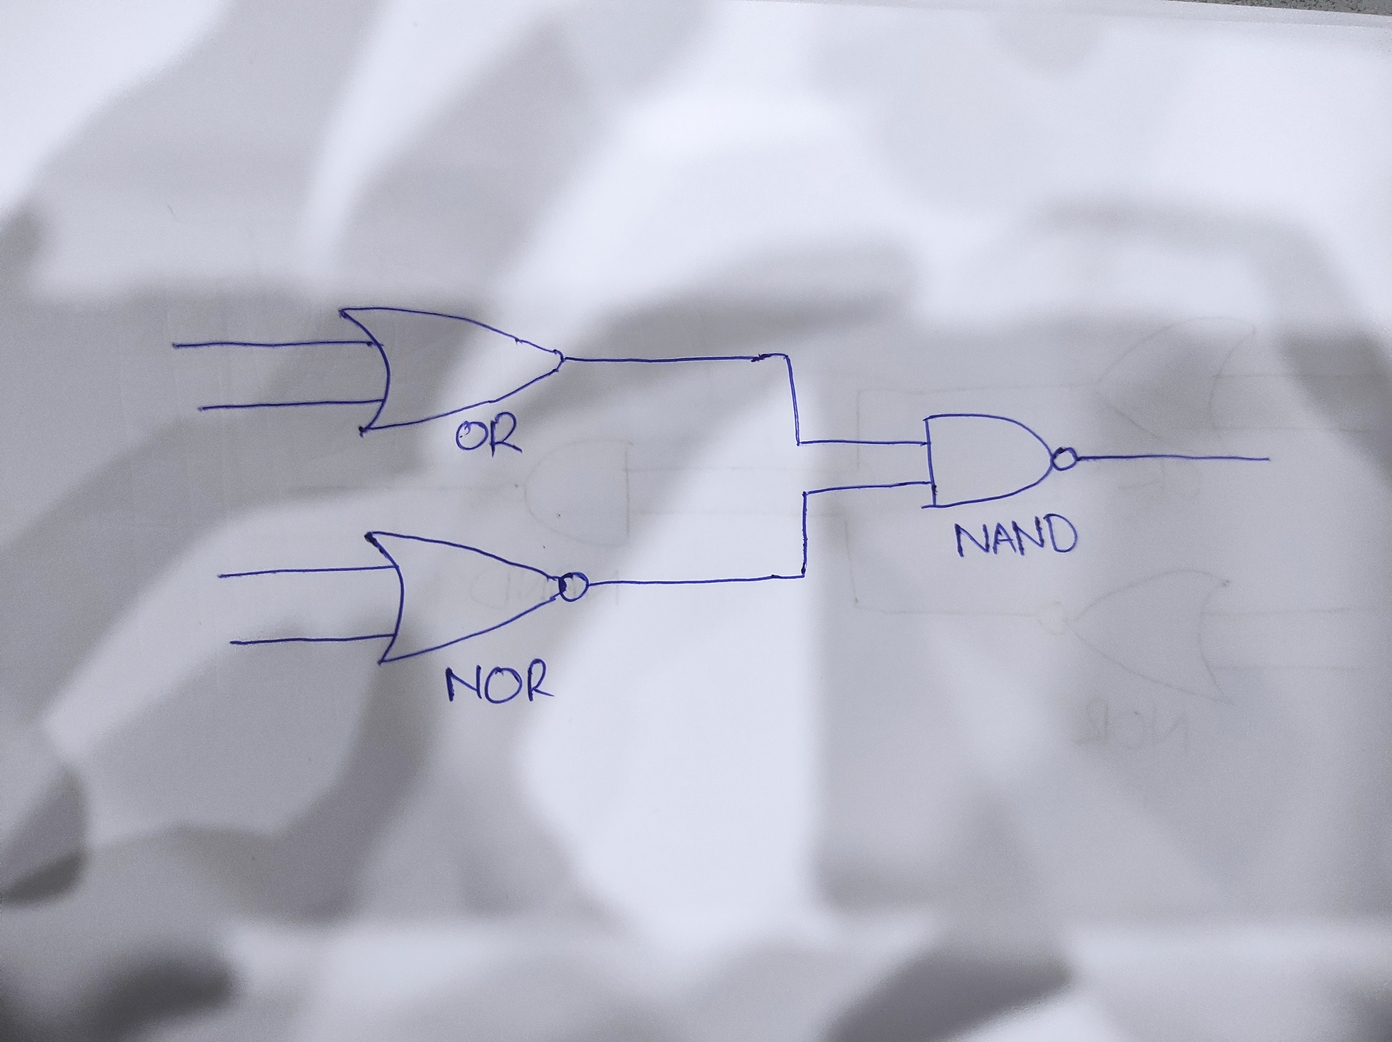junction: (789, 560, 816, 589), (772, 343, 799, 368), (794, 483, 814, 503), (788, 433, 808, 454)
nand: (918, 407, 1082, 511)
nor: (359, 529, 592, 668)
or: (332, 299, 570, 441)
terminal: (217, 630, 250, 656), (161, 334, 189, 356), (1252, 449, 1280, 470), (187, 400, 213, 418), (209, 568, 229, 586)
text: (952, 512, 1080, 560), (441, 656, 557, 707), (456, 412, 525, 460)
